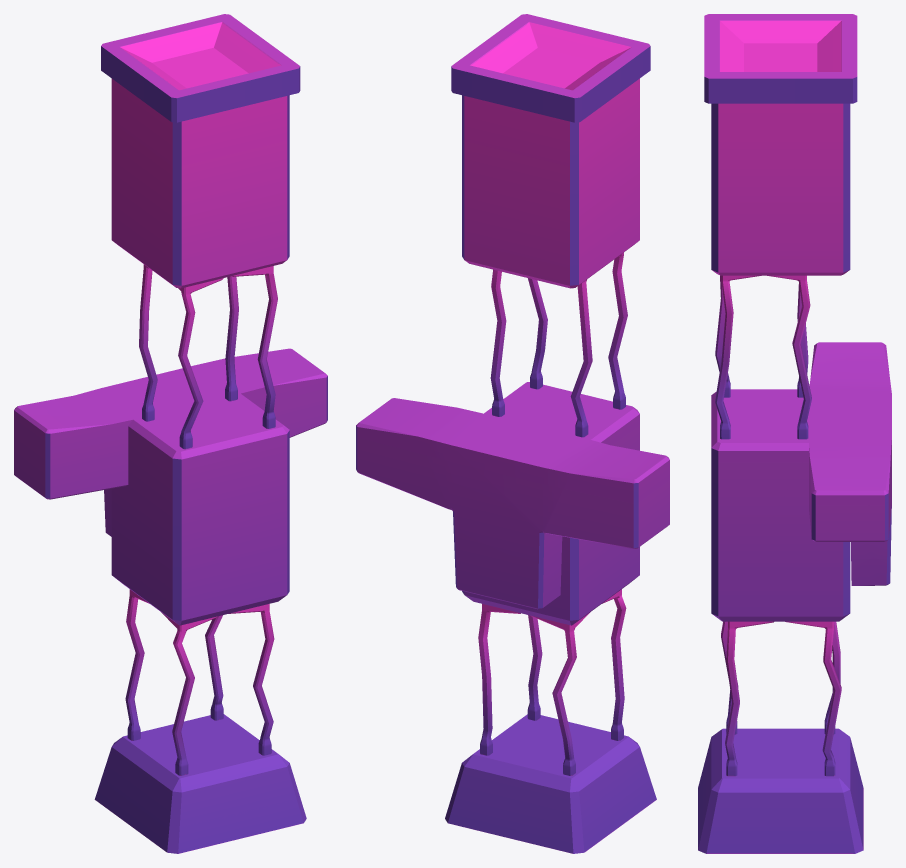
The model's file is buildingadder.fbx.
3 views of the same model, side by side, from view 1: azimuth 30°, elevation 25°; view 2: azimuth 150°, elevation 25°; view 3: azimuth 270°, elevation 25° (orthographic). The views are drawn at different scales.
Visible parts, largest first — view 1: building_29, s_11, s_12, s_8, s_7, s_10, s_9, s_13, s_6; view 2: building_29, s_9, s_6, s_10, s_11, s_8, s_13, s_12, s_7; view 3: building_29, s_13, s_6, s_12, s_7, s_11, s_9, s_10.
Boxes of the visible parts, <box> form: building_29: <box>14,14,327,853</box>; s_11: <box>178,278,223,449</box>; s_12: <box>232,266,277,428</box>; s_8: <box>161,612,218,775</box>; s_7: <box>228,604,274,755</box>; s_10: <box>139,264,157,421</box>; s_9: <box>125,589,149,740</box>; s_13: <box>225,276,238,401</box>; s_6: <box>205,615,223,720</box>; building_29: <box>356,14,669,853</box>; s_9: <box>531,612,590,775</box>; s_6: <box>478,604,520,755</box>; s_10: <box>570,279,592,437</box>; s_11: <box>608,252,627,409</box>; s_8: <box>602,589,626,740</box>; s_13: <box>490,269,506,416</box>; s_12: <box>528,278,547,389</box>; s_7: <box>527,615,542,720</box>; building_29: <box>698,14,891,853</box>; s_13: <box>767,275,811,439</box>; s_6: <box>785,621,841,776</box>; s_12: <box>715,275,761,439</box>; s_7: <box>725,621,773,776</box>; s_11: <box>715,275,730,397</box>; s_9: <box>824,621,840,734</box>; s_10: <box>797,284,808,397</box>.
Bounding box in the file's own units: 120 × 307 × 69.78.
